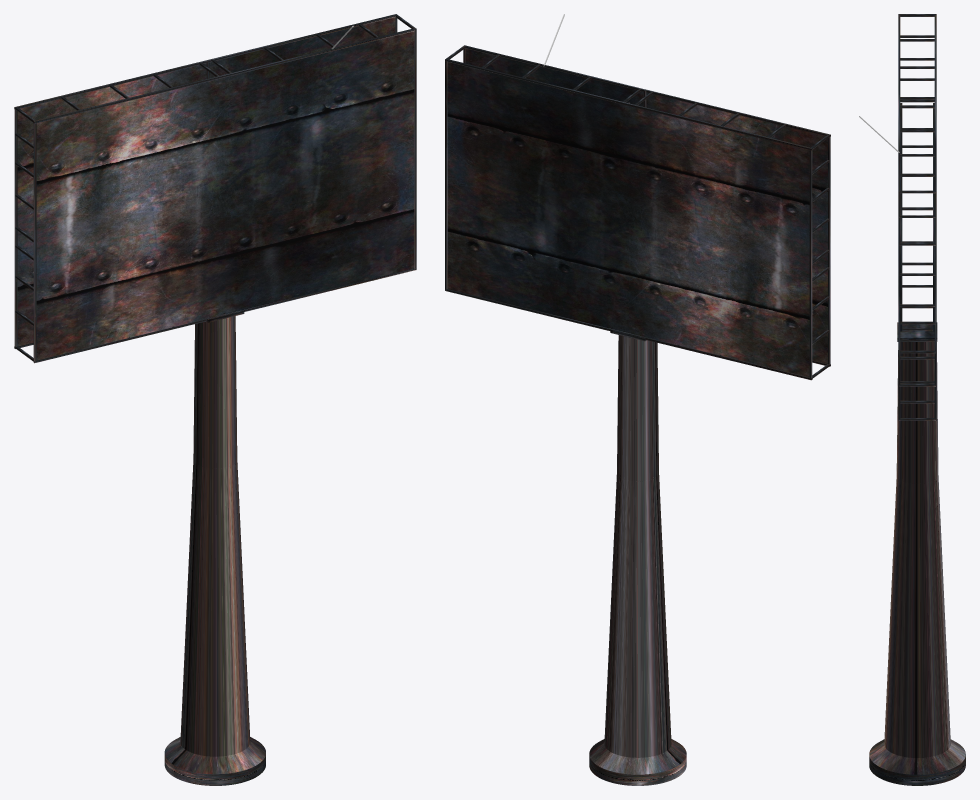
Rendered from stolb_reklama.fbx.
3 renders of one model, left to right at view 1: azimuth 30°, elevation 25°; view 2: azimuth 150°, elevation 25°; view 3: azimuth 270°, elevation 25°, orthographic. The views are drawn at different scales.
Visible parts, largest first — view 1: Cube.083; view 2: Cube.083; view 3: Cube.083.
Part boxes in pixels (x1=…): Cube.083: x1=14, y1=14, x2=416, y2=785; Cube.083: x1=445, y1=45, x2=830, y2=785; Cube.083: x1=869, y1=14, x2=965, y2=785.
Bounding box in the file's own units: 408 × 750 × 104.
1 material, 1 textured.
